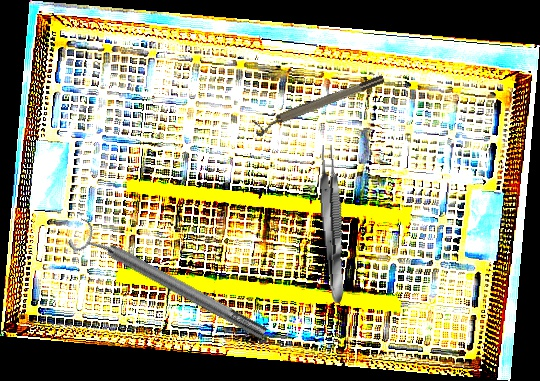Fixation Ring: (65, 214, 273, 352), (251, 72, 388, 138)
Tissue Forceps: (315, 144, 349, 304)
